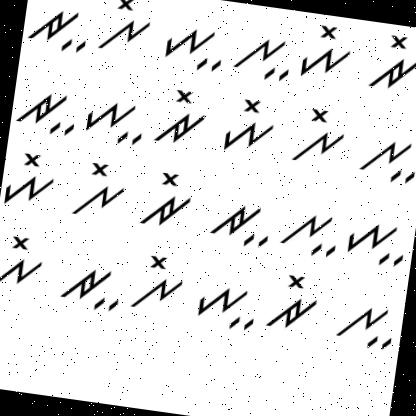lah: (327, 290, 399, 355), (227, 28, 295, 86), (276, 203, 341, 261), (356, 131, 416, 188)
lo: (285, 99, 352, 171), (69, 156, 130, 226), (127, 248, 188, 314), (94, 0, 157, 61)
rah: (202, 187, 275, 252), (10, 82, 81, 141), (57, 256, 124, 318), (24, 0, 94, 58)
ro: (134, 166, 196, 238), (260, 268, 322, 339), (360, 26, 416, 97), (152, 85, 210, 151)
yah: (338, 209, 410, 274), (80, 88, 152, 151), (189, 276, 260, 336), (159, 16, 228, 77)
yo: (293, 16, 356, 84), (2, 146, 60, 212), (218, 93, 278, 156), (0, 226, 48, 292)
